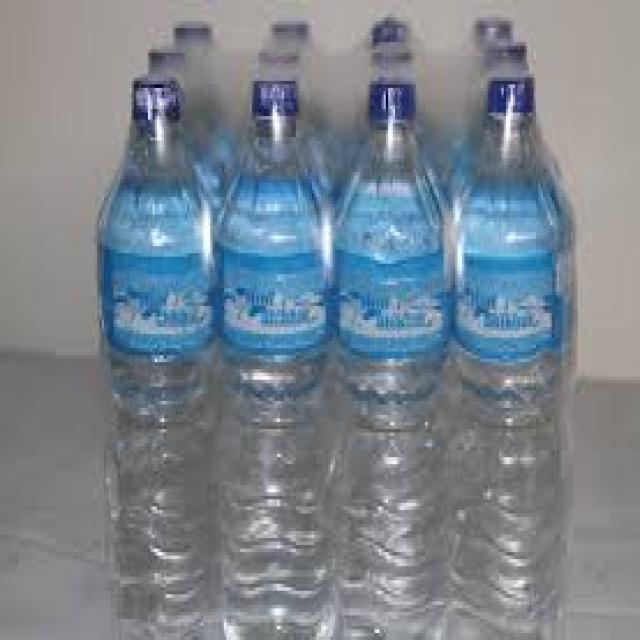bottle: (87, 72, 593, 620)
